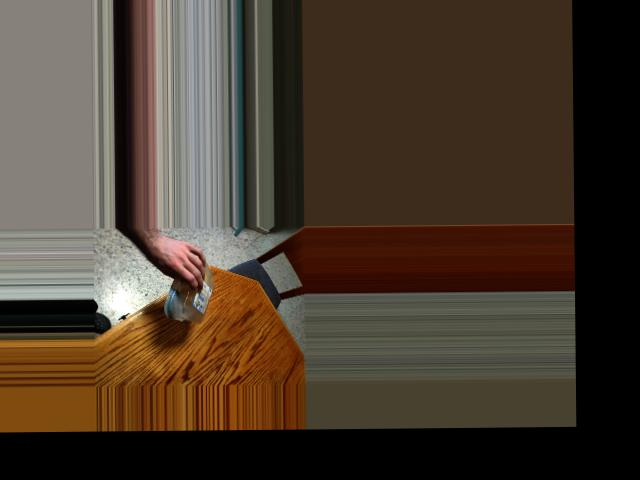cheese: (167, 263, 215, 319)
